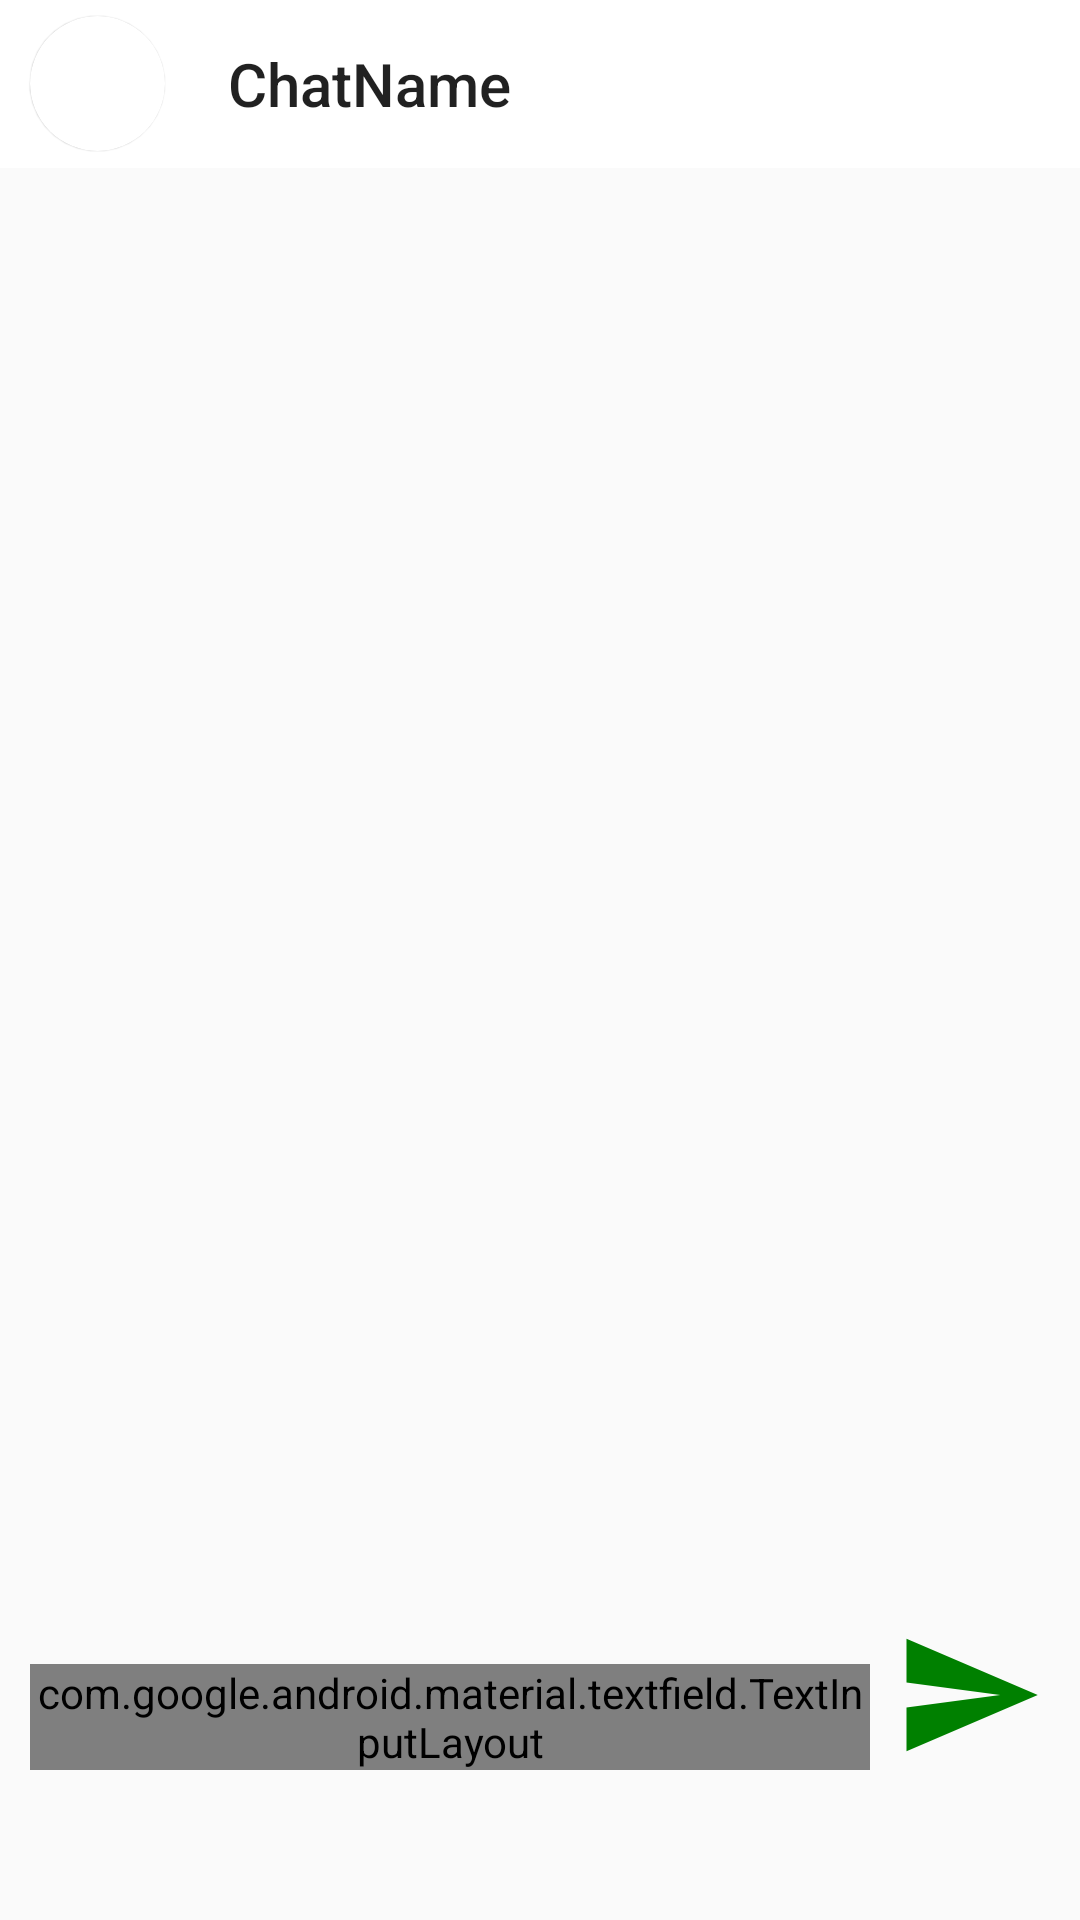

Icons on this 1080 × 1920 Android screen, each with its box as (x1, y1, x2, y2):
send: (906, 1639, 1038, 1751)
